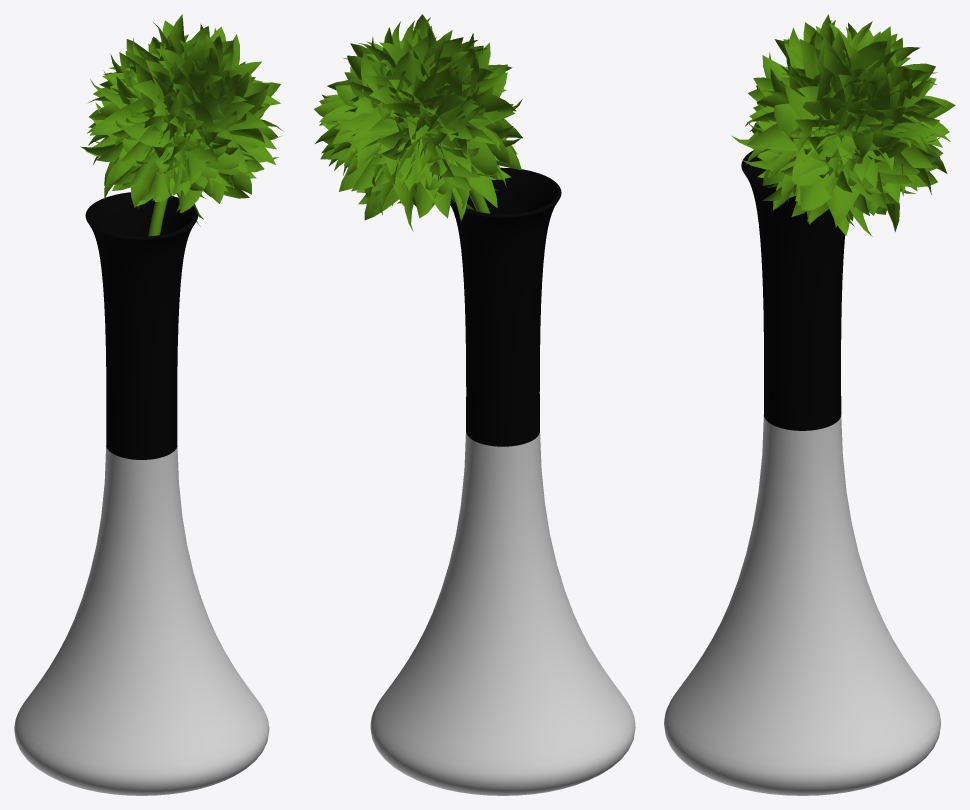
Rendered from MP1_Vase_01.FBX.
3 renders of one model, left to right at view 1: azimuth 30°, elevation 25°; view 2: azimuth 150°, elevation 25°; view 3: azimuth 270°, elevation 25°, orthographic. The views are drawn at different scales.
Parts seen in each view (by area): view 1: Vase_01; view 2: Vase_01; view 3: Vase_01.
Part boxes in pixels (<box>): Vase_01: <box>14,14,283,795</box>; Vase_01: <box>314,14,635,795</box>; Vase_01: <box>664,14,955,795</box>.
Size of the model in its own units: 101 by 262 by 91.1.
